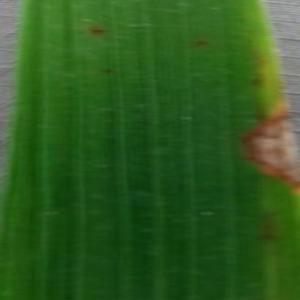1 RiceBlast: (224, 95, 300, 204)
